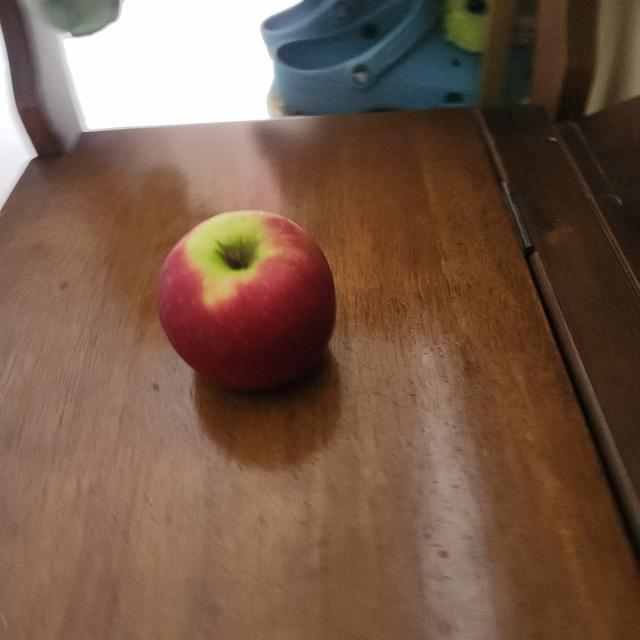apple: (240, 144, 434, 346)
